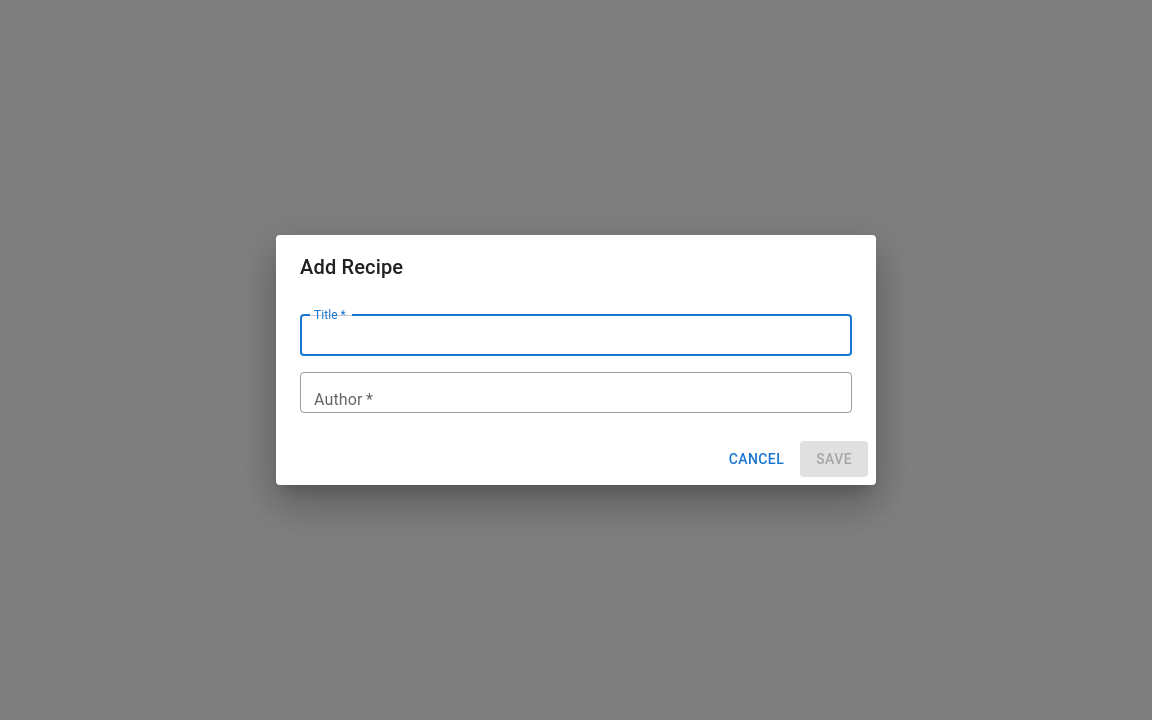
Test: RecipeFormDialog › add mode › "Keep Editing" in warning dialog keeps the form open
This screenshot has width=1152, height=720.
Type "Something" into the field labelled "Title *".
click(576, 335); type("Something")  # box x1=300 y1=315 x2=852 y2=356
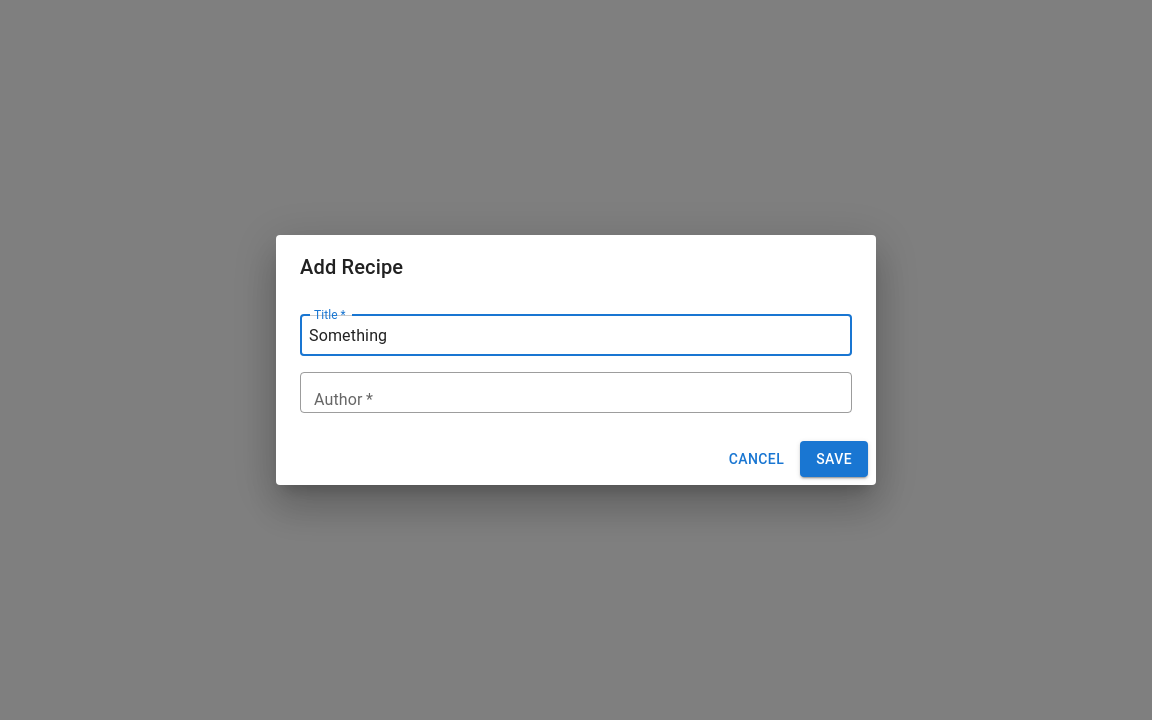
Click the button "Cancel".
click(756, 459)  # box x1=721 y1=441 x2=792 y2=477
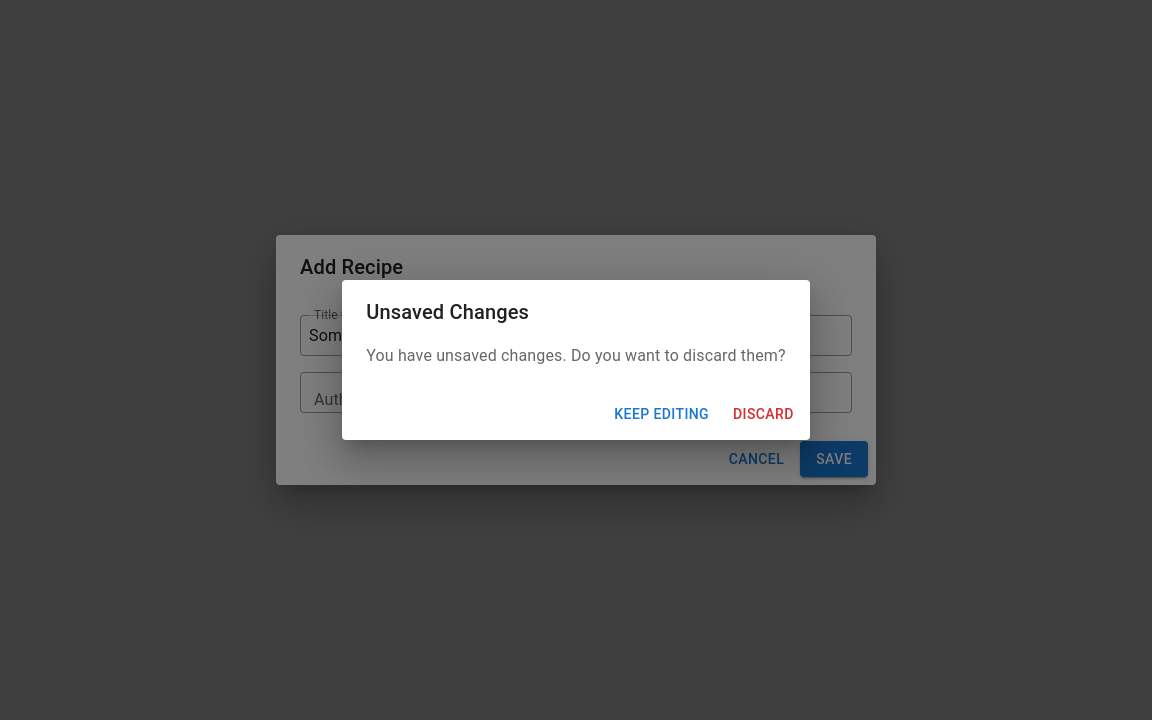
Click the button "Keep Editing".
click(662, 414)  # box x1=606 y1=396 x2=717 y2=432
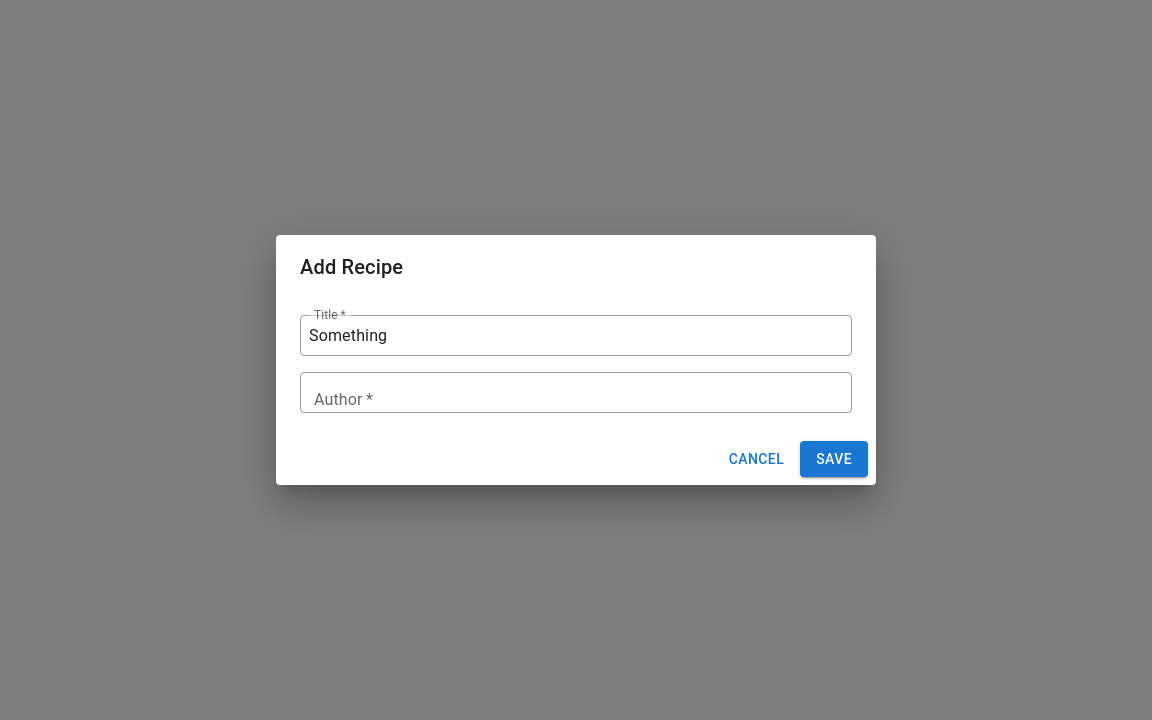
Check: the heading "Unsaved Changes" is gone
